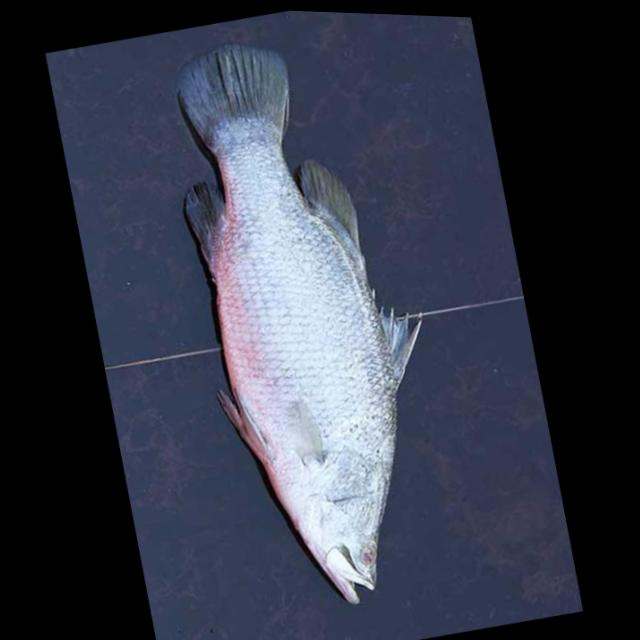Seabass: (139, 11, 488, 628)
